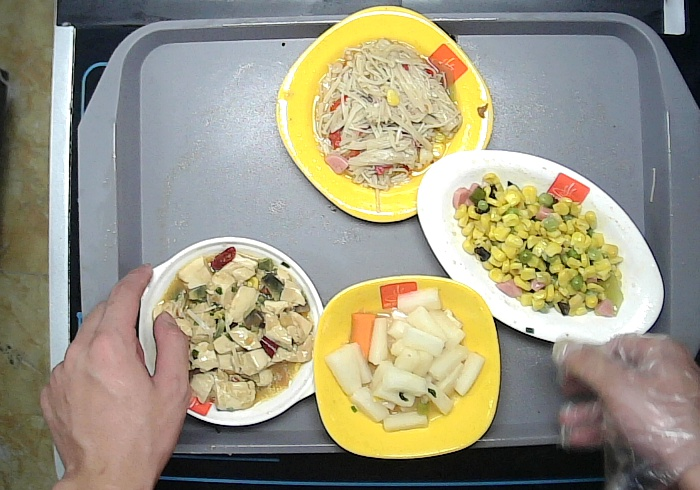SHKJ-Bao_Yu_Pan: (138, 234, 326, 427)
SHKJ-Huang_Se_Cai_Die: (311, 272, 502, 461)
SHKJ-Huang_Se_Si_Fang_Cai_Die: (272, 4, 496, 223)
SHKJ-Yu_Pan: (414, 146, 667, 345)
